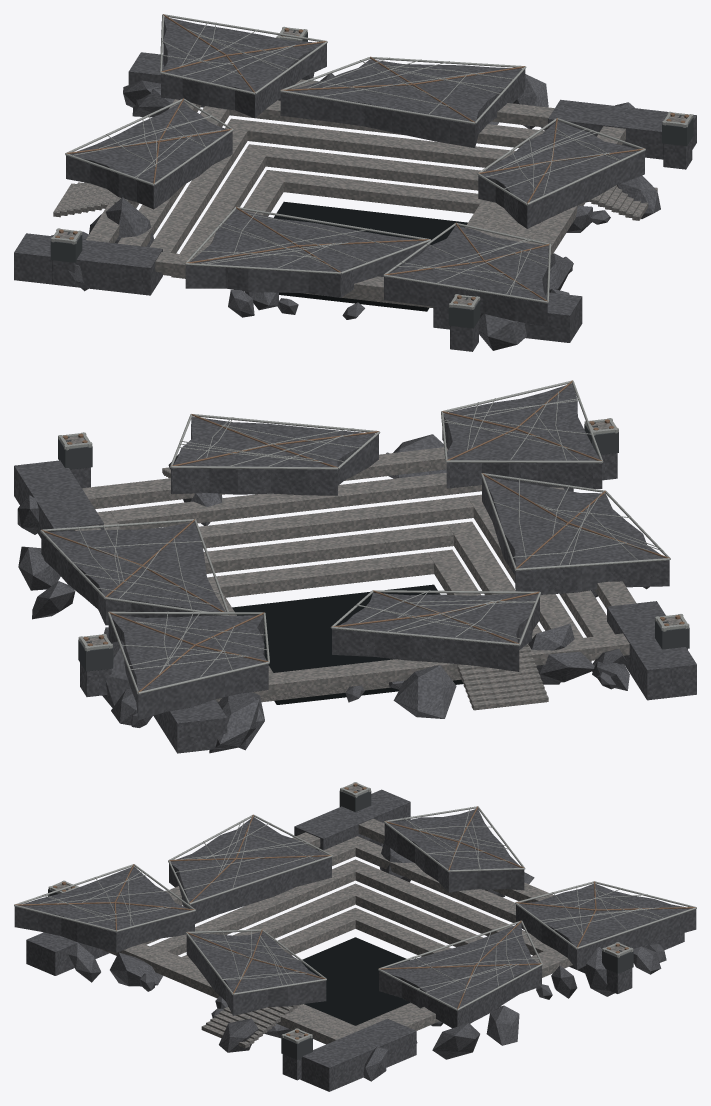
Rendered from central-ruin.glb.
The picture shows the model from 3 angles, top to bottom: view 1: azimuth 30°, elevation 25°; view 2: azimuth 150°, elevation 25°; view 3: azimuth 270°, elevation 25°; orthographic projection. The views are drawn at different scales.
Visible parts, largest first — view 1: Diamond architecture • editable solid geometry; view 2: Diamond architecture • editable solid geometry; view 3: Diamond architecture • editable solid geometry.
Boxes of the visible parts, x1,y1,x2,y2 form: Diamond architecture • editable solid geometry: (14,14,696,351); Diamond architecture • editable solid geometry: (14,380,696,753); Diamond architecture • editable solid geometry: (14,782,696,1091).
Size of the model in its own units: 15.98 by 2.55 by 16.57.
Materials: 7 (2 with a texture image).
